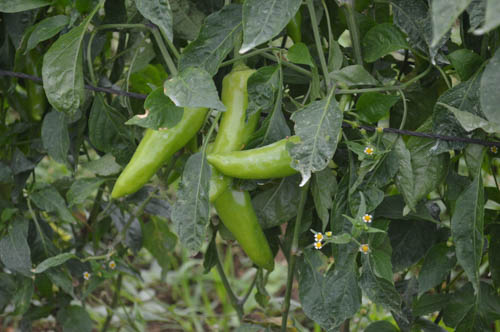ChiliPepper: (110, 86, 205, 207), (212, 73, 260, 200), (207, 133, 315, 183), (217, 182, 271, 267)
